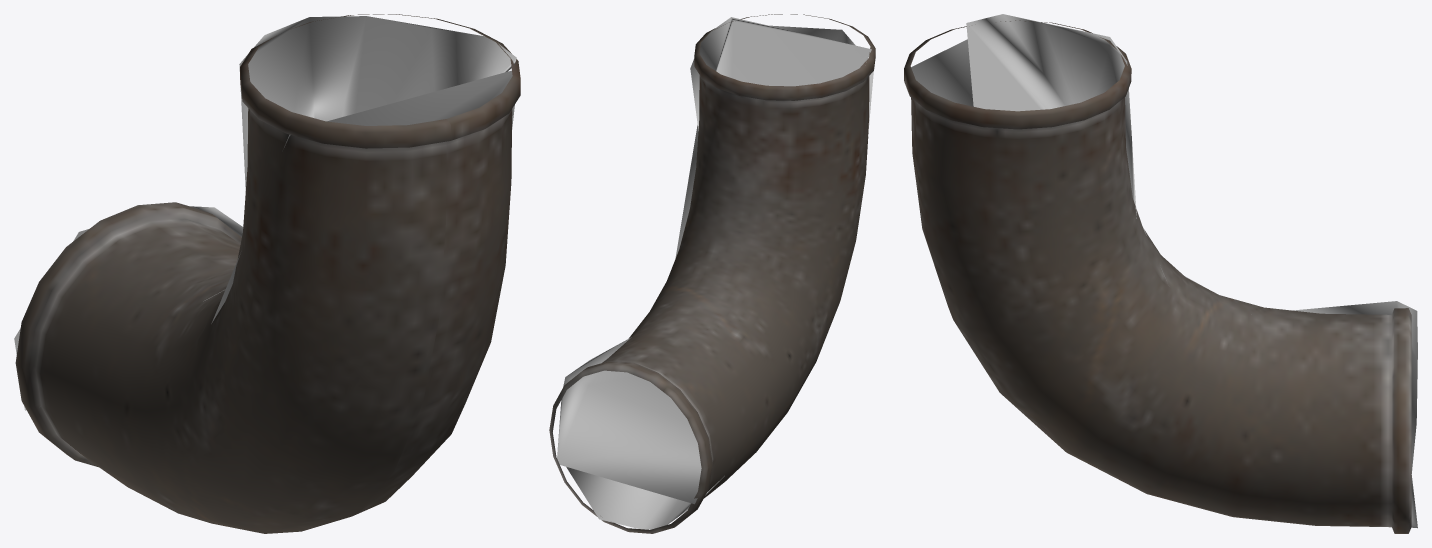
Rendered from SM_Pipe_Curve.gltf.
3 renders of one model, left to right at view 1: azimuth 30°, elevation 25°; view 2: azimuth 150°, elevation 25°; view 3: azimuth 270°, elevation 25°, orthographic. The views are drawn at different scales.
Parts seen in each view (by area): view 1: SM_Pipe_Curve_LOD0, SM_Pipe_Curve_ConvexHulls; view 2: SM_Pipe_Curve_LOD0, SM_Pipe_Curve_ConvexHulls; view 3: SM_Pipe_Curve_LOD0, SM_Pipe_Curve_ConvexHulls.
Boxes of the visible parts, bbox=[...] form: SM_Pipe_Curve_LOD0: bbox=[15, 14, 520, 533]; SM_Pipe_Curve_ConvexHulls: bbox=[14, 16, 516, 410]; SM_Pipe_Curve_LOD0: bbox=[549, 14, 875, 533]; SM_Pipe_Curve_ConvexHulls: bbox=[557, 17, 873, 529]; SM_Pipe_Curve_LOD0: bbox=[904, 20, 1411, 533]; SM_Pipe_Curve_ConvexHulls: bbox=[911, 14, 1417, 528].
Size of what is drawn, in the model's own units: 0.1183 by 0.2662 by 0.2672.
